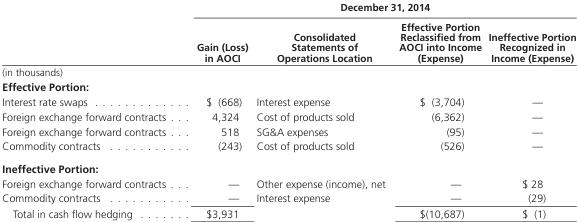table: (1, 1, 575, 219)
table column: (1, 1, 180, 219), (251, 1, 391, 219), (391, 1, 484, 219), (484, 1, 575, 219), (180, 1, 251, 219)
table column header: (1, 1, 575, 78)
table projected row header: (1, 156, 575, 175), (1, 78, 575, 93)
table row: (1, 16, 575, 78), (1, 156, 575, 175), (1, 138, 575, 156), (1, 1, 575, 16), (1, 78, 575, 93), (1, 93, 575, 108), (1, 108, 575, 123), (1, 123, 575, 138), (1, 175, 575, 190), (1, 190, 575, 205), (1, 205, 575, 219)
table spanning cell: (1, 1, 180, 78), (180, 1, 575, 16)
